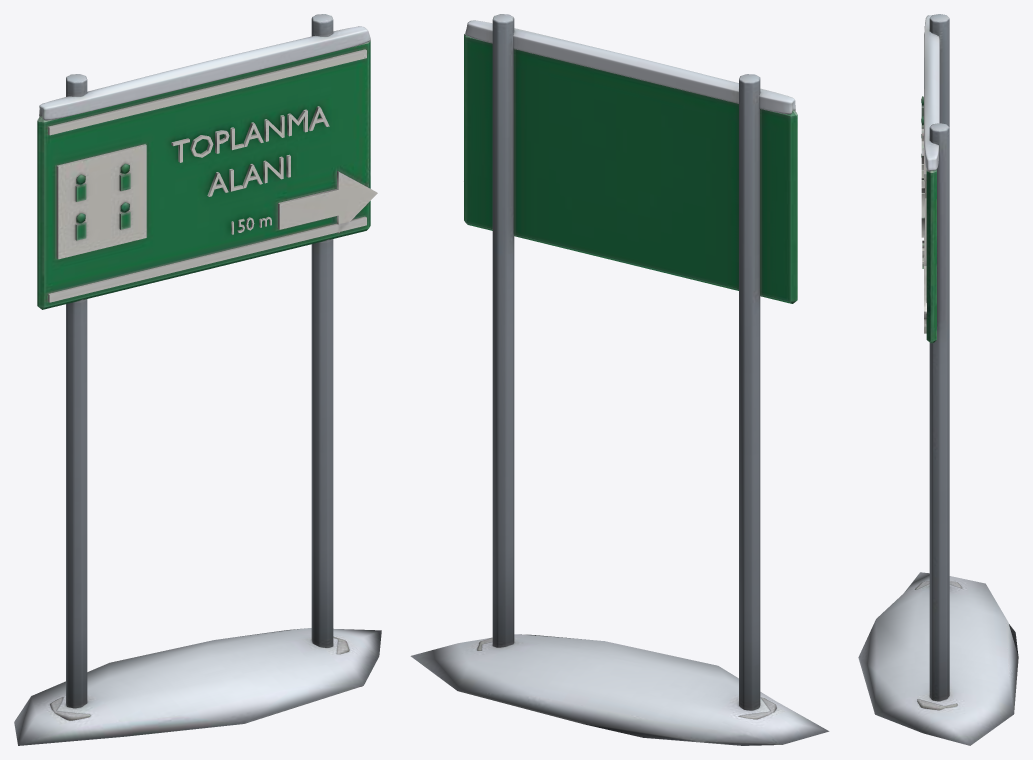
The model's file is sign_assembly_arrow.glb.
3 views of the same model, side by side, from view 1: azimuth 30°, elevation 25°; view 2: azimuth 150°, elevation 25°; view 3: azimuth 270°, elevation 25° (orthographic). The views are drawn at different scales.
Parts seen in each view (by area): view 1: sign_assembly_arrow; view 2: sign_assembly_arrow; view 3: sign_assembly_arrow.
Boxes of the visible parts, <box> form: sign_assembly_arrow: <box>14,14,381,745</box>; sign_assembly_arrow: <box>410,14,829,745</box>; sign_assembly_arrow: <box>858,14,1018,745</box>.
Size of the model in its own units: 1.59 by 2.51 by 0.6205.
1 material, 1 textured.
